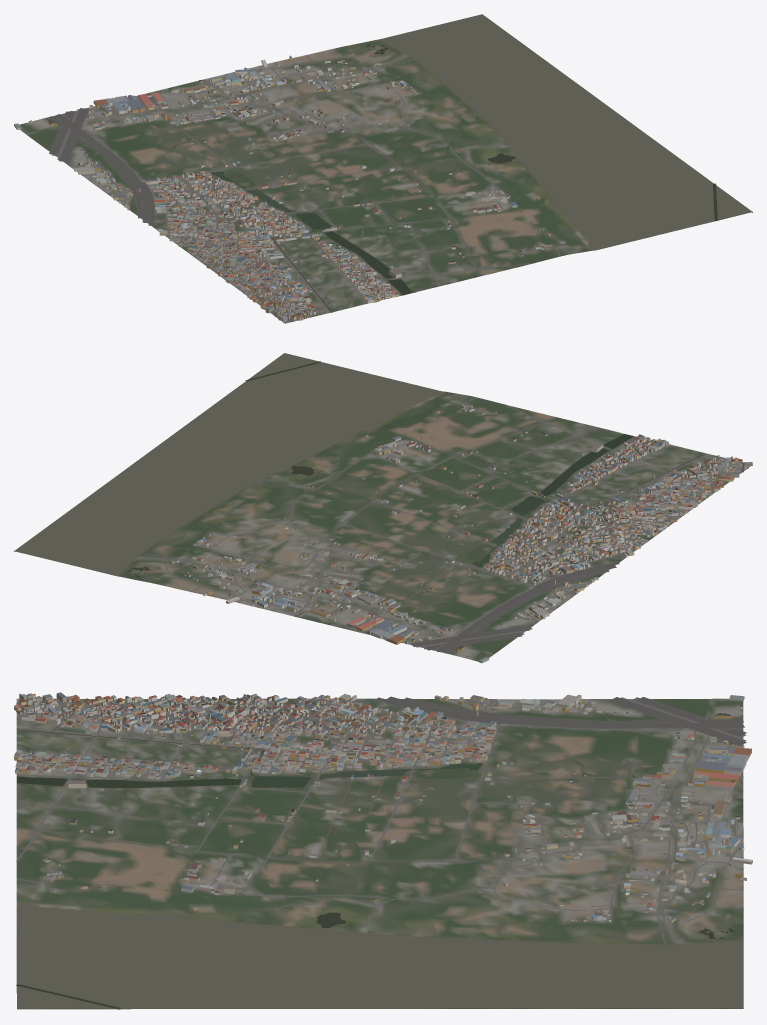
The picture shows the model from 3 angles, top to bottom: view 1: azimuth 30°, elevation 25°; view 2: azimuth 150°, elevation 25°; view 3: azimuth 270°, elevation 25°; orthographic projection. The views are drawn at different scales.
Visible parts, largest first — view 1: ground, water, buildings, roads; view 2: ground, water, buildings, roads; view 3: ground, water, buildings, roads.
Part boxes in pixels (<box>): ground: <box>19,16,752,323</box>; water: <box>211,14,751,312</box>; buildings: <box>14,55,563,322</box>; roads: <box>25,55,559,322</box>; ground: <box>14,353,752,661</box>; water: <box>15,353,705,576</box>; buildings: <box>169,403,752,663</box>; roads: <box>137,397,744,655</box>; ground: <box>16,698,743,1009</box>; water: <box>16,729,743,1009</box>; buildings: <box>14,692,752,923</box>; roads: <box>16,696,746,944</box>.
Bounding box in the file's own units: 1415 × 24.31 × 1425.
